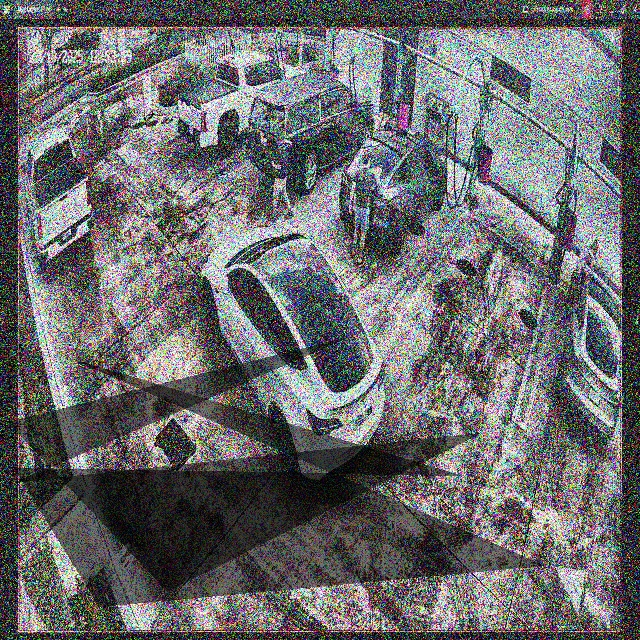Car: (202, 226, 386, 483), (248, 65, 374, 190), (342, 128, 446, 259), (178, 46, 301, 155)
